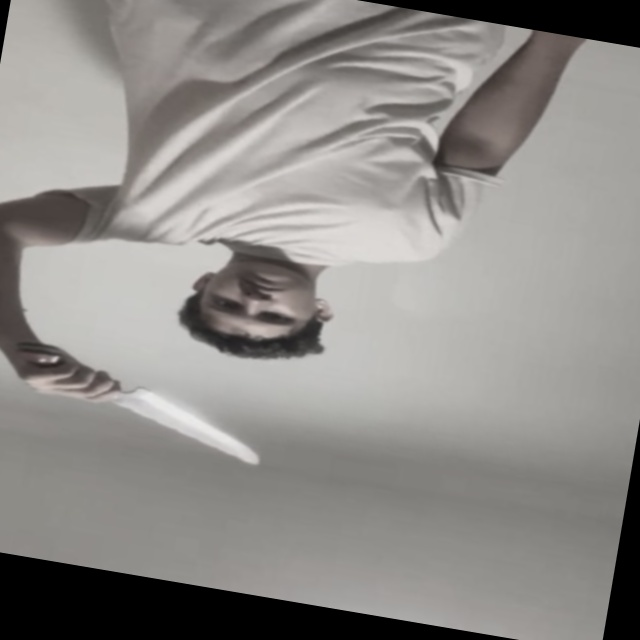Sharp-Object: (115, 384, 263, 466)
